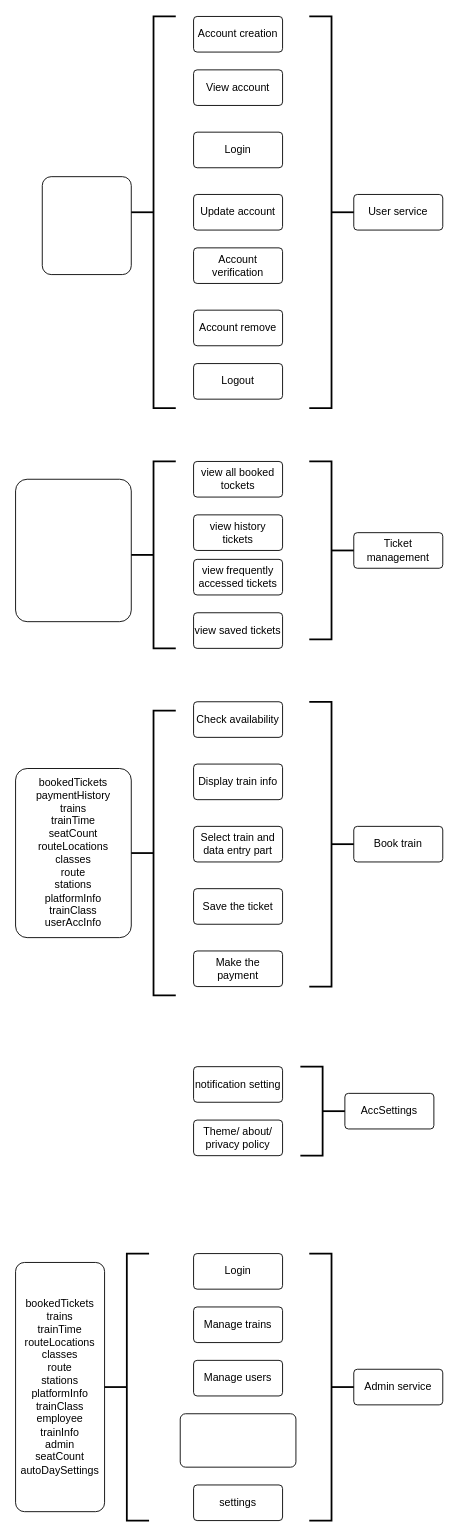
Some shapes in this 458 by 1536 pixel diagram are drawn without their labels. The centre of each missing label's shape, as x and y in pixels:
bookedTickets paymentHistory trains frequentlyUsedTrains savedTrains trainTime: the point at 73,550
Manage employee (to main admin): the point at 237,1440
userAcc userInfo assignedRoles sessions: the point at 86,225
